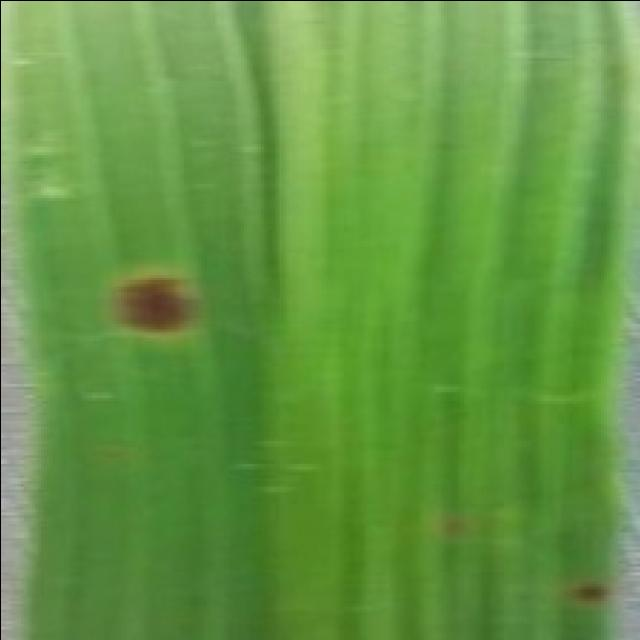Unhealthy: (110, 272, 201, 337), (566, 580, 610, 605), (436, 513, 469, 541)
